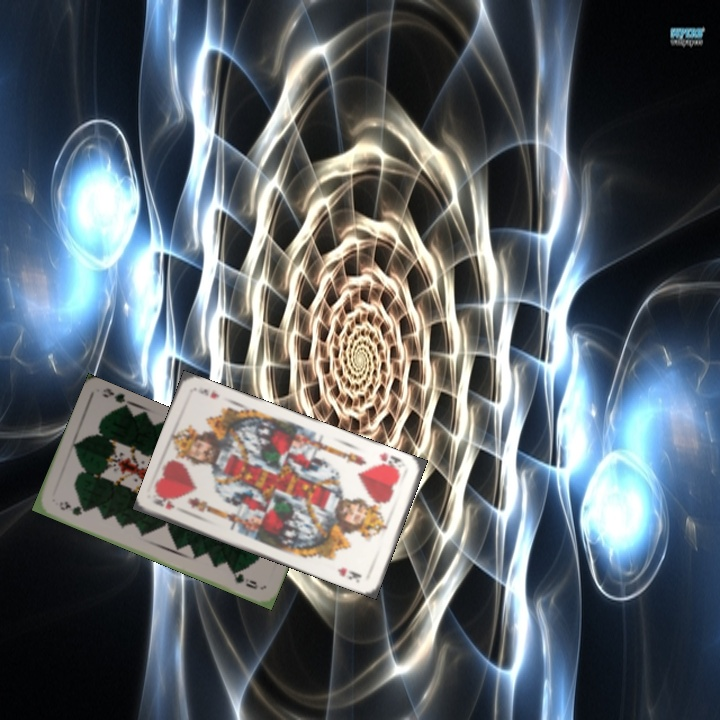G9: (55, 498, 89, 518)
HK: (372, 448, 404, 474), (150, 493, 177, 512)
